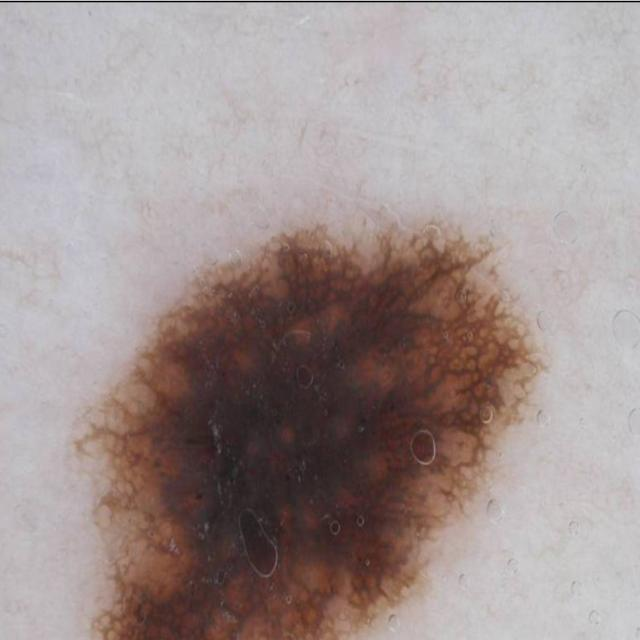Melanoma: (49, 187, 587, 640)
